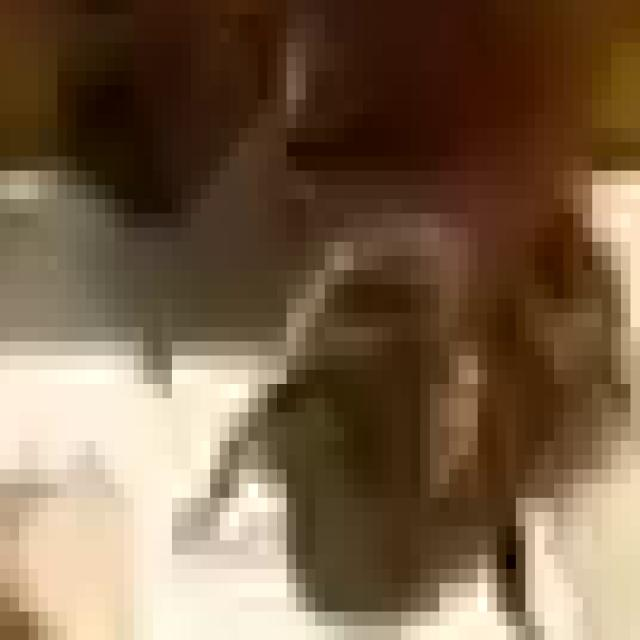honeybee: (251, 142, 616, 596)
